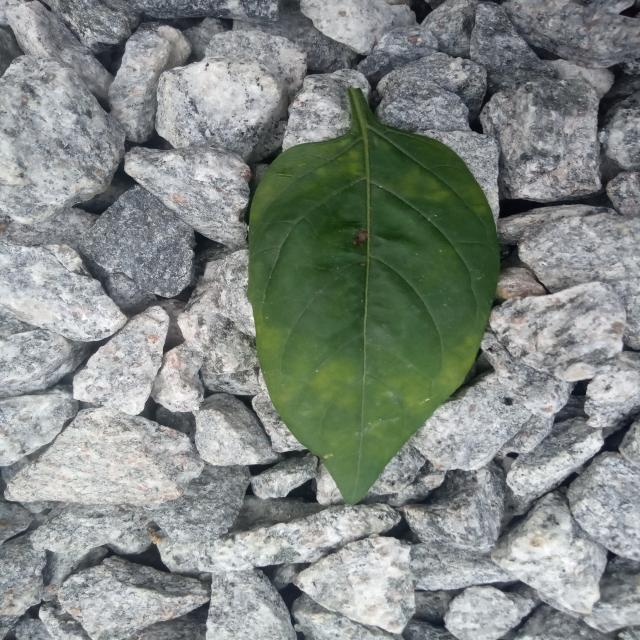ganike: (248, 89, 500, 504)
